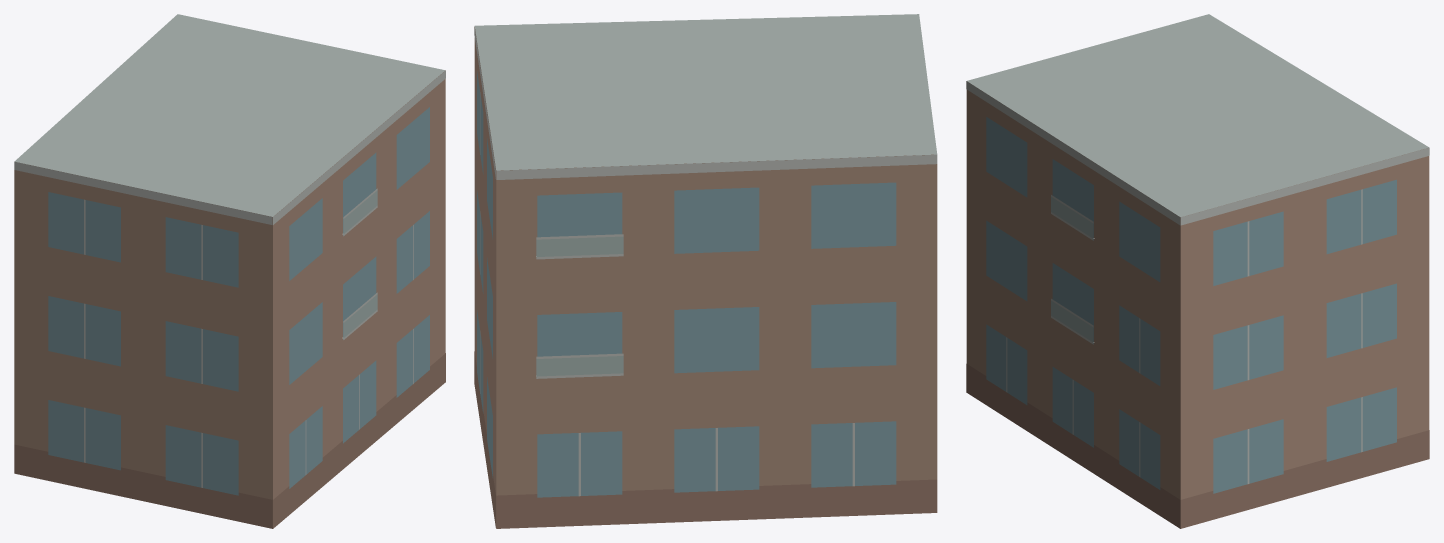
File: survey-upis-32790384.glb
The picture shows the model from 3 angles, left to right: view 1: azimuth 30°, elevation 25°; view 2: azimuth 150°, elevation 25°; view 3: azimuth 270°, elevation 25°; orthographic projection. The views are drawn at different scales.
Visible parts, largest first — view 1: survey-upis-32790384.tmp; view 2: survey-upis-32790384.tmp; view 3: survey-upis-32790384.tmp.
Boxes of the visible parts, x1,y1,x2,y2 form: survey-upis-32790384.tmp: (14, 14, 445, 528); survey-upis-32790384.tmp: (474, 14, 937, 528); survey-upis-32790384.tmp: (966, 14, 1429, 528).
Size of the model in its own units: 12.81 by 9.15 by 12.33.
